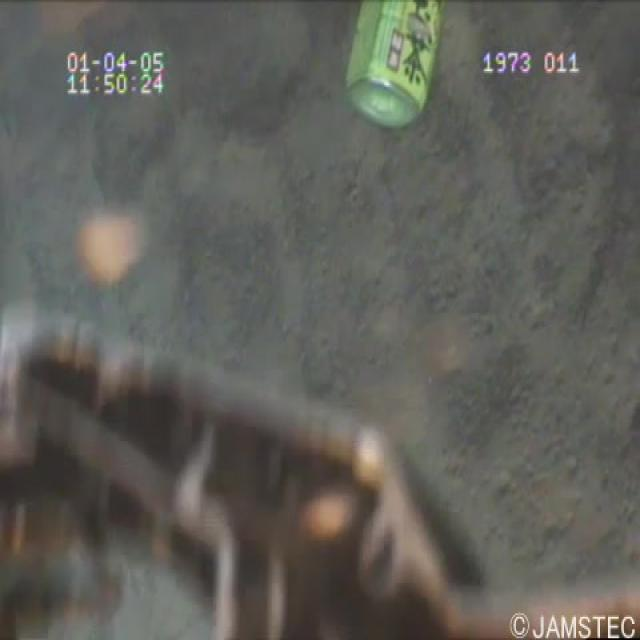plastic: (338, 0, 451, 146)
